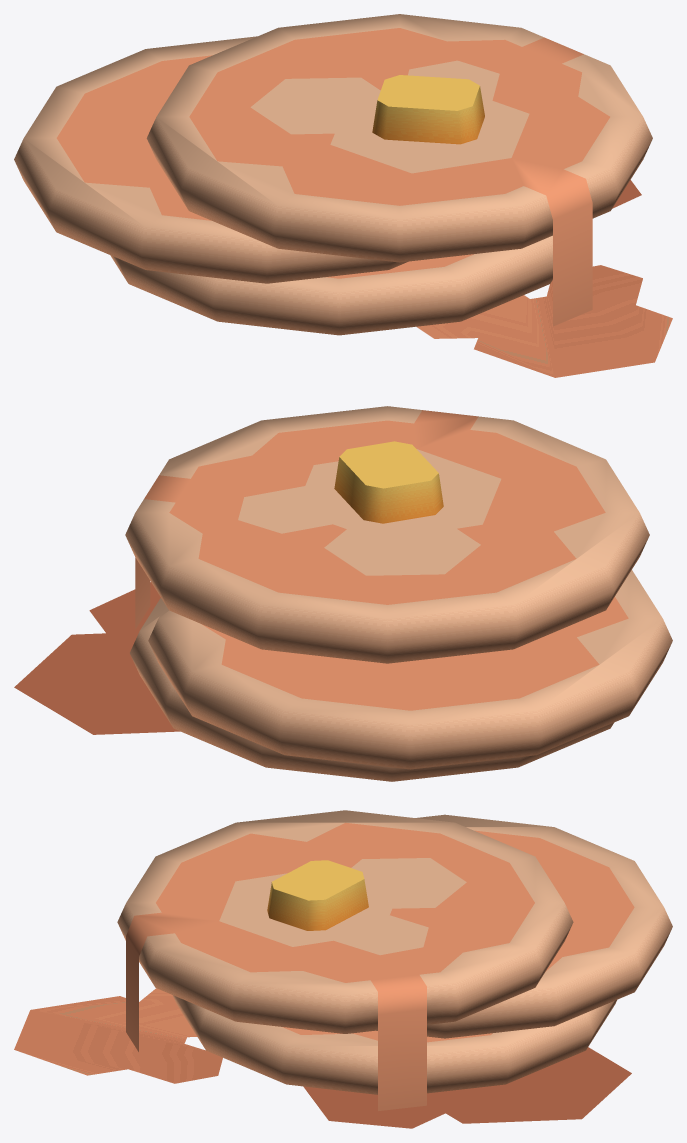
Rendered from kf_pancakes.glb.
3 renders of one model, top to bottom at view 1: azimuth 30°, elevation 25°; view 2: azimuth 150°, elevation 25°; view 3: azimuth 270°, elevation 25°, orthographic. The views are drawn at different scales.
Parts seen in each view (by area): view 1: pancakes; view 2: pancakes; view 3: pancakes.
Boxes of the visible parts, <box> form: pancakes: <box>14,14,672,377</box>; pancakes: <box>14,406,672,781</box>; pancakes: <box>14,810,672,1128</box>.
Size of the model in its own units: 0.1269 by 0.0354 by 0.1469.
Materials: 1 (1 with a texture image).
